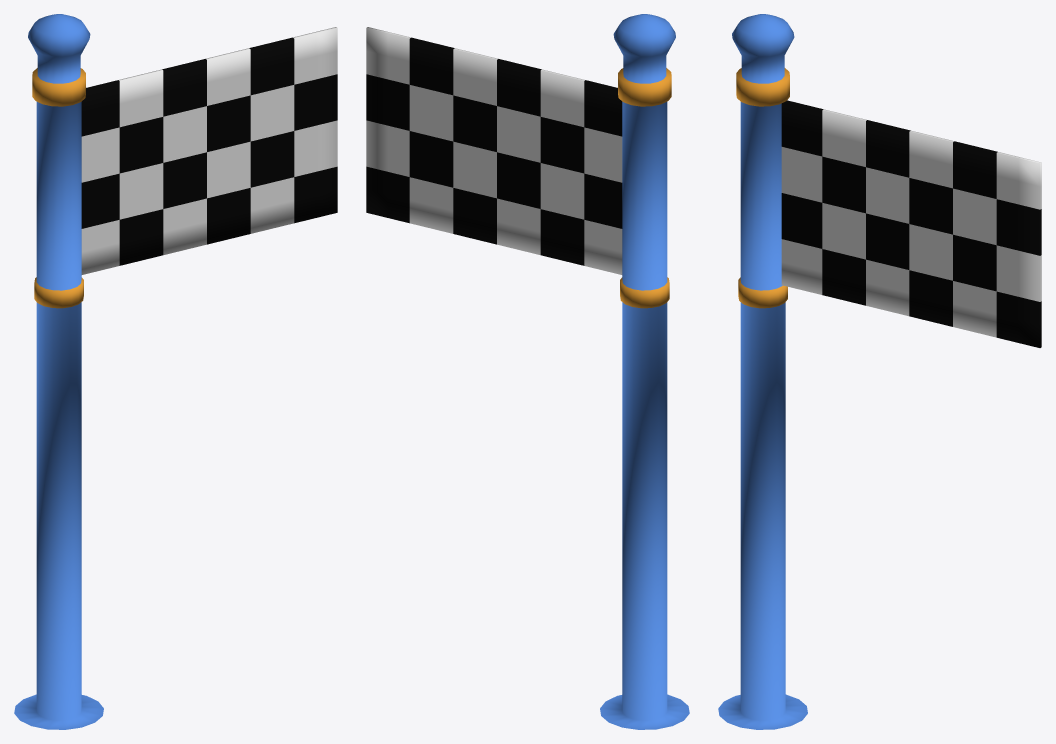
File: Flag.fbx
3 renders of one model, left to right at view 1: azimuth 30°, elevation 25°; view 2: azimuth 150°, elevation 25°; view 3: azimuth 330°, elevation 25°, orthographic.
Visible parts, largest first — view 1: Cylinder; view 2: Cylinder; view 3: Cylinder.
Part boxes in pixels (bbox=[...]): Cylinder: bbox=[14, 14, 337, 729]; Cylinder: bbox=[366, 14, 689, 729]; Cylinder: bbox=[718, 14, 1041, 729].
Size of the model in its own units: 97 by 203 by 24.
